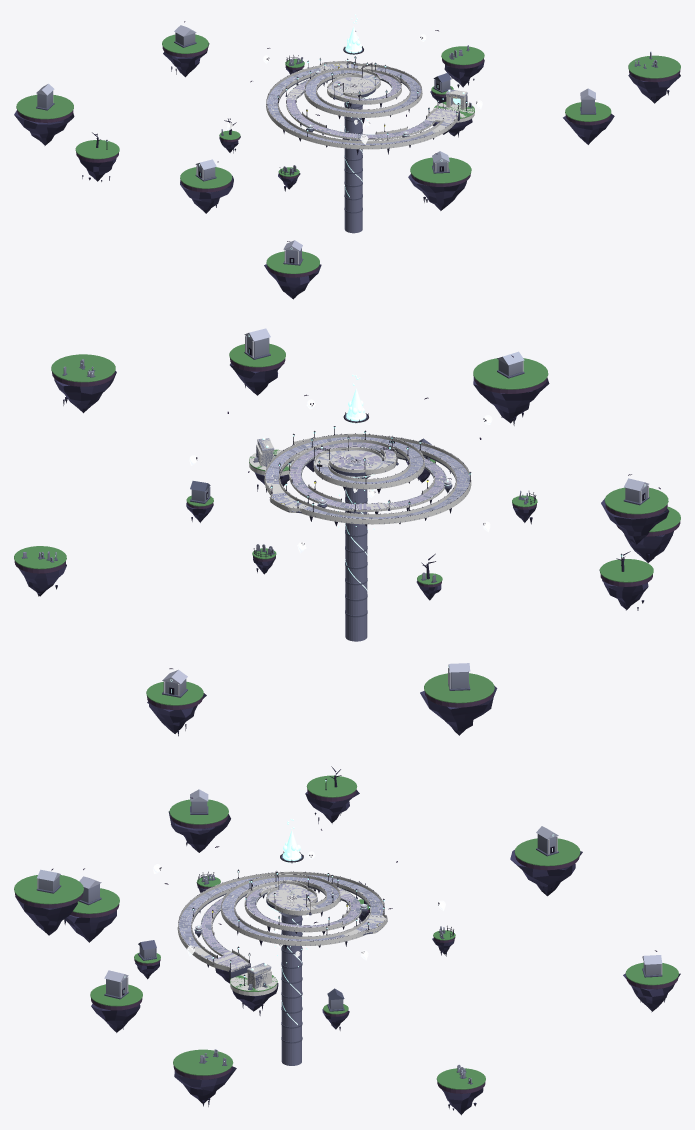
3 renders of one model, top to bottom at view 1: azimuth 30°, elevation 25°; view 2: azimuth 150°, elevation 25°; view 3: azimuth 270°, elevation 25°, orthographic. The views are drawn at different scales.
Parts seen in each view (by area): view 1: V_moss, C_0, V_rock, V_stone, V_dirt, V_flag_b, V_flag, V_stone_dark, V_iron, V_stone_light, V_glow_green; view 2: V_moss, C_0, V_rock, V_stone, V_dirt, V_flag_b, V_flag, V_stone_dark, V_iron, V_stone_light, V_glow_green; view 3: V_moss, C_0, V_rock, V_stone, V_dirt, V_flag_b, V_stone_dark, V_flag, V_iron, V_stone_light, V_glow_green.
Boxes of the visible parts, x1=… form: V_moss: x1=16, y1=34, x2=680, y2=273; C_0: x1=266, y1=61, x2=474, y2=149; V_rock: x1=14, y1=43, x2=680, y2=299; V_stone: x1=37, y1=33, x2=657, y2=263; V_dirt: x1=17, y1=46, x2=680, y2=277; V_flag_b: x1=267, y1=63, x2=450, y2=144; V_flag: x1=287, y1=72, x2=456, y2=138; V_stone_dark: x1=36, y1=41, x2=657, y2=265; V_iron: x1=106, y1=46, x2=467, y2=175; V_stone_light: x1=36, y1=25, x2=596, y2=250; V_glow_green: x1=199, y1=14, x2=655, y2=261; V_moss: x1=14, y1=343, x2=680, y2=705; C_0: x1=249, y1=433, x2=471, y2=524; V_rock: x1=19, y1=363, x2=673, y2=735; V_stone: x1=23, y1=336, x2=647, y2=695; V_dirt: x1=14, y1=358, x2=680, y2=709; V_flag_b: x1=265, y1=436, x2=469, y2=518; V_flag: x1=290, y1=442, x2=445, y2=509; V_stone_dark: x1=22, y1=352, x2=649, y2=697; V_iron: x1=253, y1=412, x2=622, y2=565; V_stone_light: x1=162, y1=328, x2=648, y2=683; V_glow_green: x1=42, y1=334, x2=645, y2=693; V_moss: x1=14, y1=775, x2=678, y2=1089; C_0: x1=177, y1=871, x2=387, y2=995; V_rock: x1=15, y1=790, x2=680, y2=1115; V_stone: x1=38, y1=801, x2=660, y2=1083; V_dirt: x1=15, y1=789, x2=678, y2=1093; V_flag_b: x1=179, y1=875, x2=384, y2=960; V_stone_dark: x1=36, y1=806, x2=662, y2=1084; V_flag: x1=201, y1=884, x2=360, y2=969; V_iron: x1=178, y1=779, x2=453, y2=985; V_stone_light: x1=37, y1=789, x2=662, y2=982; V_glow_green: x1=123, y1=819, x2=553, y2=1080.
Size of the model in its own units: 182 by 68.72 by 170.
